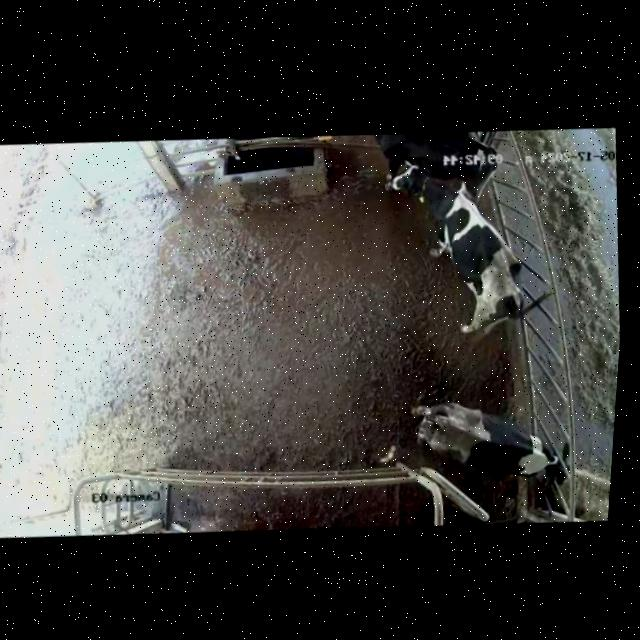eat: (499, 420, 614, 500)
stand: (366, 148, 536, 355), (358, 118, 509, 200)
